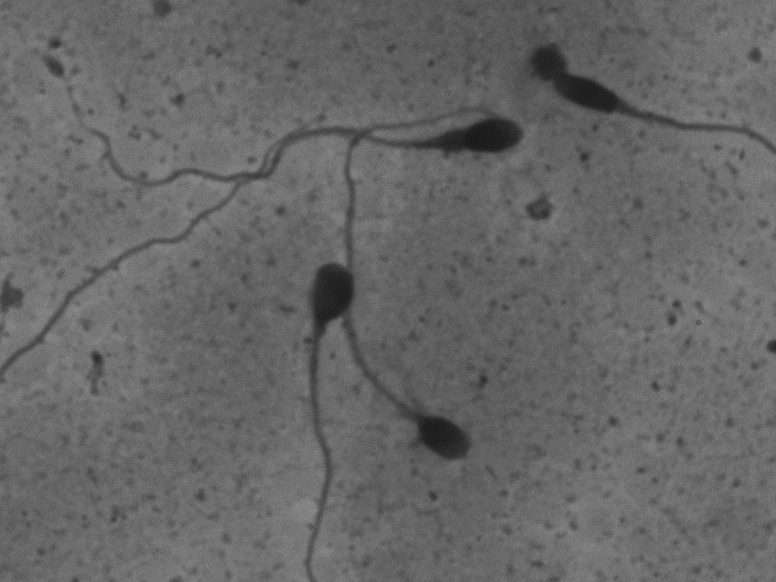Abnormal: (54, 33, 529, 200), (271, 255, 360, 573), (556, 47, 763, 179)
Normal: (337, 101, 495, 472)
